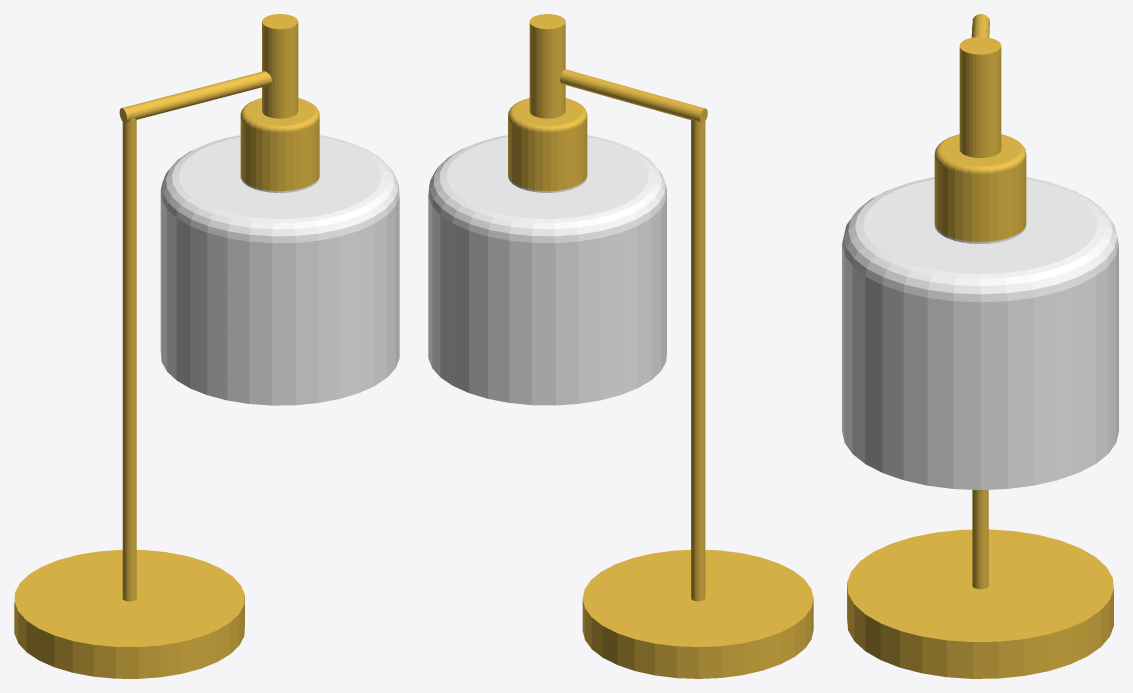
The model's file is deskLamp.glb.
3 renders of one model, left to right at view 1: azimuth 30°, elevation 25°; view 2: azimuth 150°, elevation 25°; view 3: azimuth 270°, elevation 25°, orthographic. The views are drawn at different scales.
Parts seen in each view (by area): view 1: Circle; view 2: Circle; view 3: Circle.
Boxes of the visible parts, <box> form: Circle: <box>14,14,399,678</box>; Circle: <box>428,14,813,678</box>; Circle: <box>842,14,1118,678</box>.
Size of the model in its own units: 3.54 by 5.46 by 2.07.
